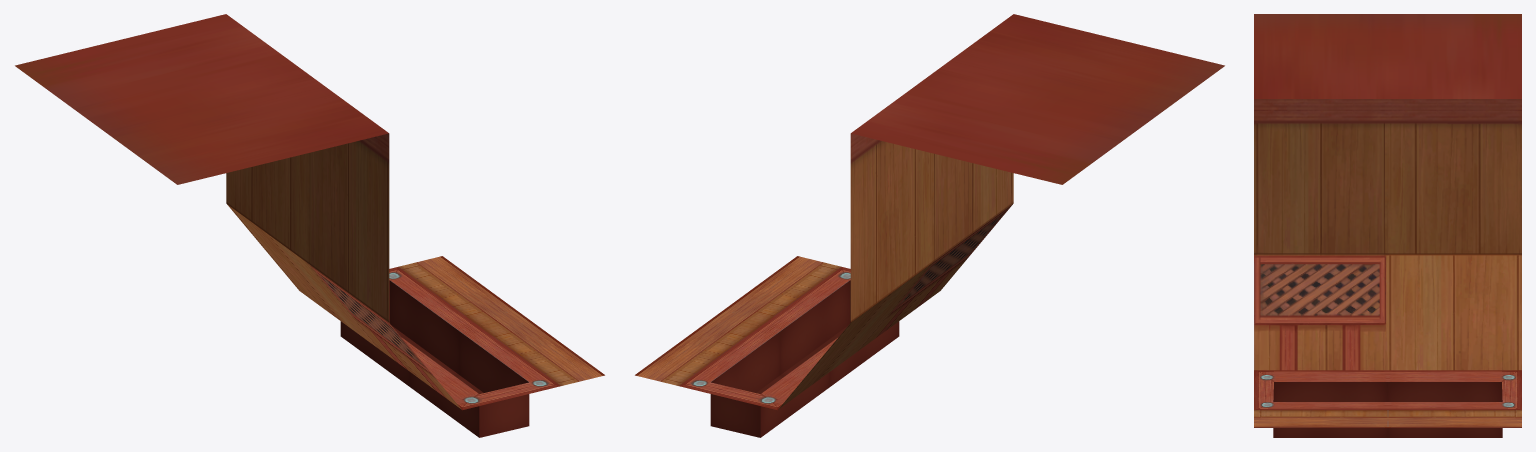
Rendered from FB_ShenLou_04.FBX.
The picture shows the model from 3 angles, left to right: view 1: azimuth 30°, elevation 25°; view 2: azimuth 150°, elevation 25°; view 3: azimuth 270°, elevation 25°; orthographic projection. The views are drawn at different scales.
Parts seen in each view (by area): view 1: Object80; view 2: Object80; view 3: Object80.
Part boxes in pixels (bbox=[...]): Object80: bbox=[15, 14, 604, 437]; Object80: bbox=[635, 14, 1224, 437]; Object80: bbox=[1254, 14, 1521, 437].
Size of the model in its own units: 15.16 by 11.45 by 10.
